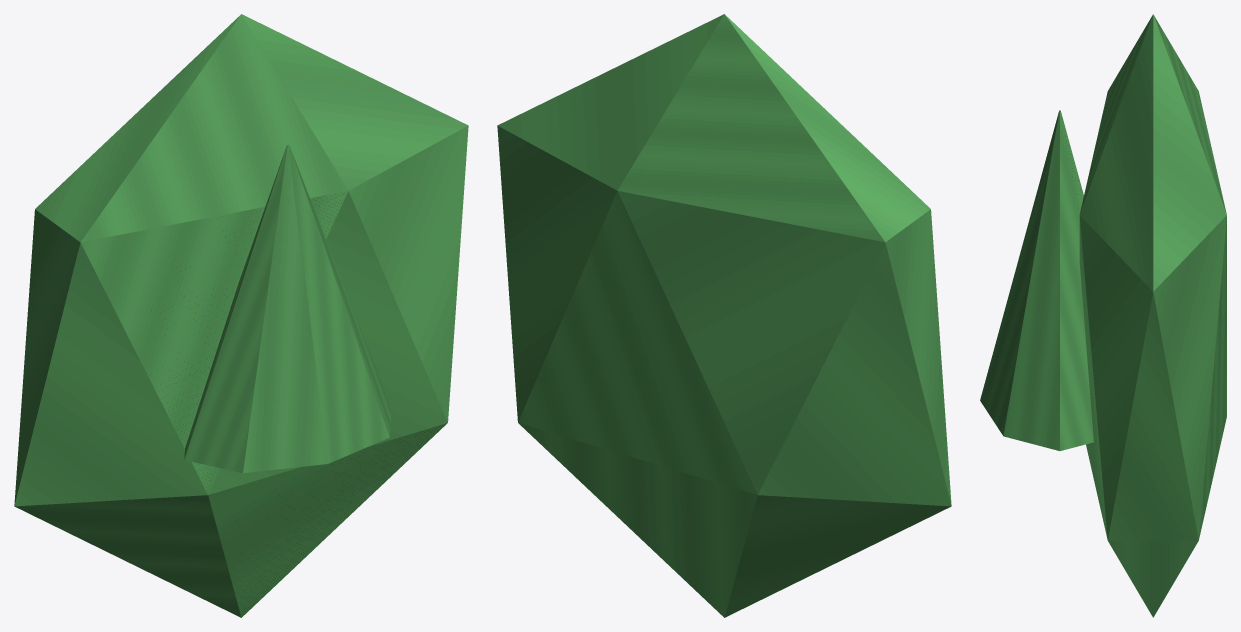
File: solitary.glb
3 renders of one model, left to right at view 1: azimuth 30°, elevation 25°; view 2: azimuth 150°, elevation 25°; view 3: azimuth 270°, elevation 25°, orthographic.
Visible parts, largest first — view 1: gear_solitary; view 2: gear_solitary; view 3: gear_solitary.
Boxes of the visible parts, bbox=[...] form: gear_solitary: bbox=[14, 14, 468, 617]; gear_solitary: bbox=[497, 14, 951, 617]; gear_solitary: bbox=[980, 14, 1226, 617].
Size of the model in its own units: 0.3935 by 0.5 by 0.1853.
1 material, 1 textured.
